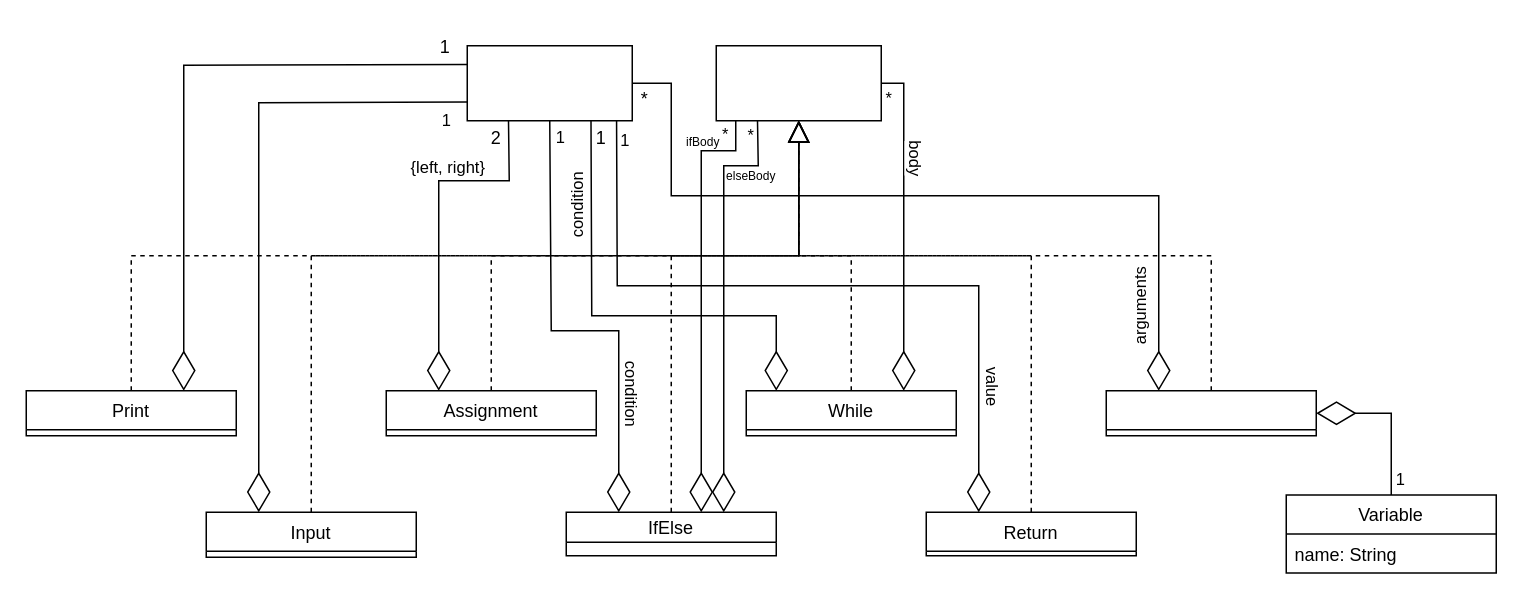
The diagram is 1523 pixels wide and 603 high, and some of its shapes have lost their labels. Each missing label, with the centre of its shape:
"Function" goes at (1210,412).
"«interface» Expression" goes at (549,82).
"«interface» Statement" goes at (798,82).
